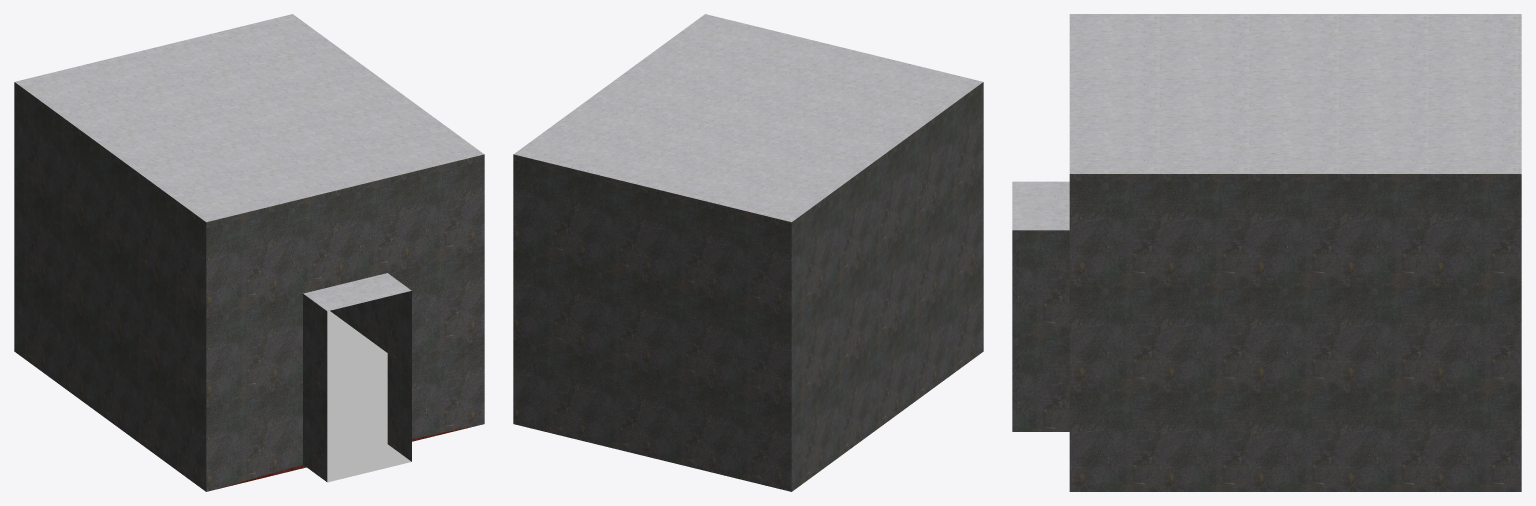
File: starship_cell.FBX
The picture shows the model from 3 angles, left to right: view 1: azimuth 30°, elevation 25°; view 2: azimuth 150°, elevation 25°; view 3: azimuth 270°, elevation 25°; orthographic projection. The views are drawn at different scales.
Visible parts, largest first — view 1: Cell; view 2: Cell; view 3: Cell.
Boxes of the visible parts, x1,y1,x2,y2 form: Cell: (14,14,484,491); Cell: (513,14,983,491); Cell: (1012,14,1521,491).
Bounding box in the file's own units: 2.06 × 1.9 × 2.76.
